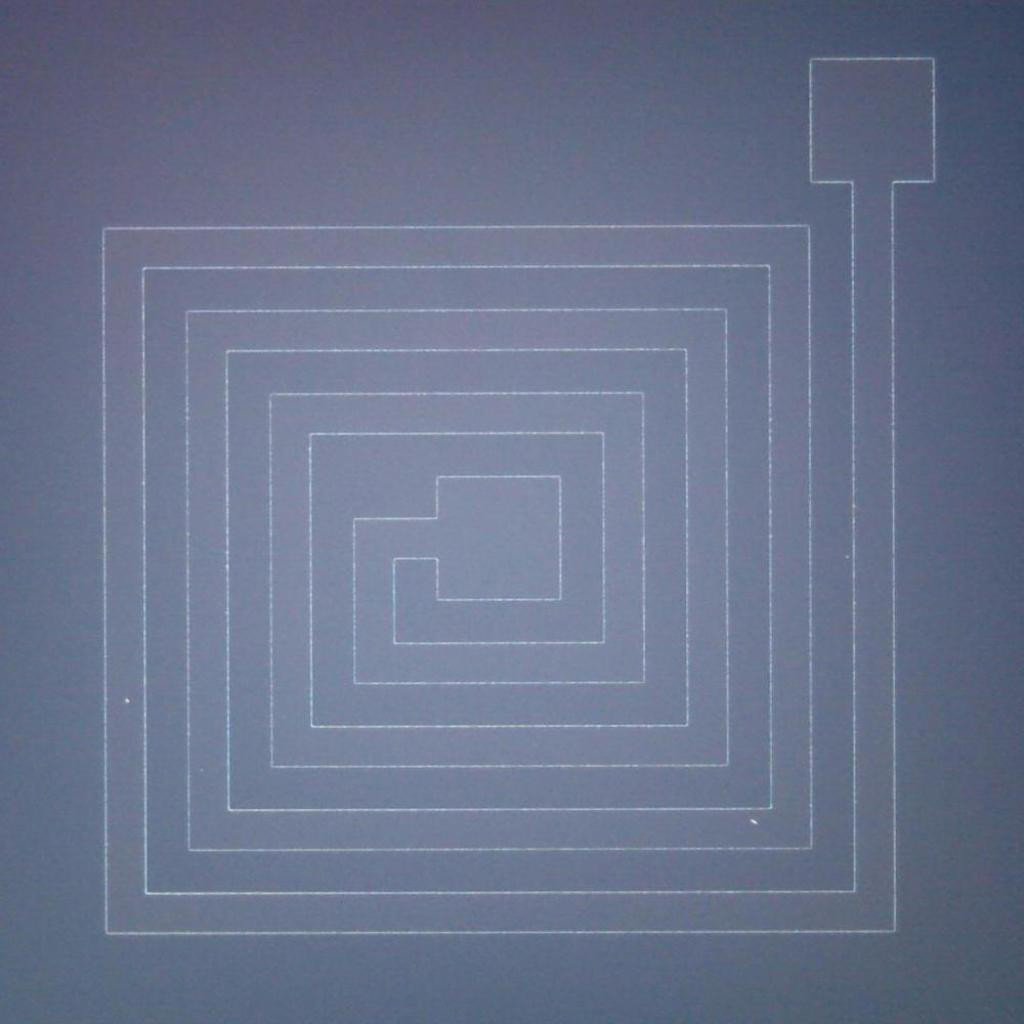dot: (736, 812, 770, 840), (113, 686, 138, 720)
